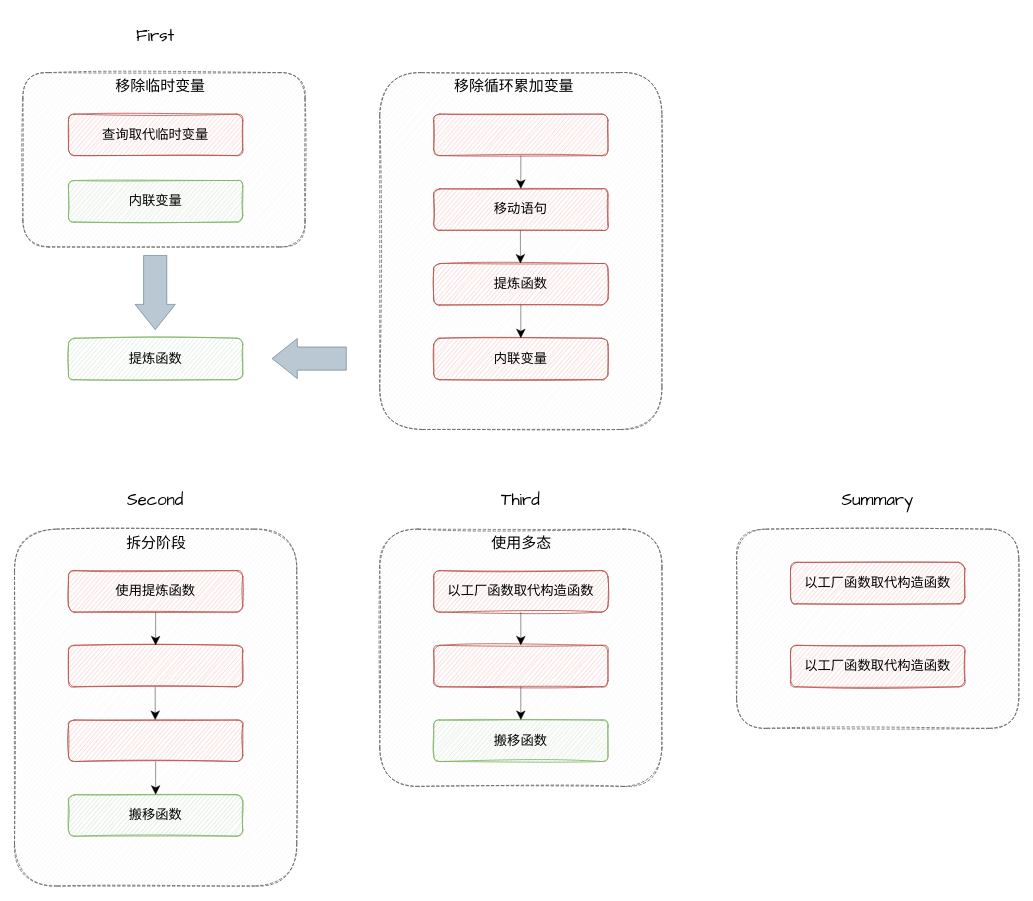
This 1033x901 diagram has some shape labels left out. The shapes that lost their labels are listed below. From the top down, each one's box as (x1, y1, x2, y2) in pixels, then its label:
(433, 113, 608, 156): 拆分循环
(68, 644, 243, 687): 创建中转对象
(433, 644, 608, 687): 以子类取代类型码
(68, 719, 243, 762): 搬移字段
